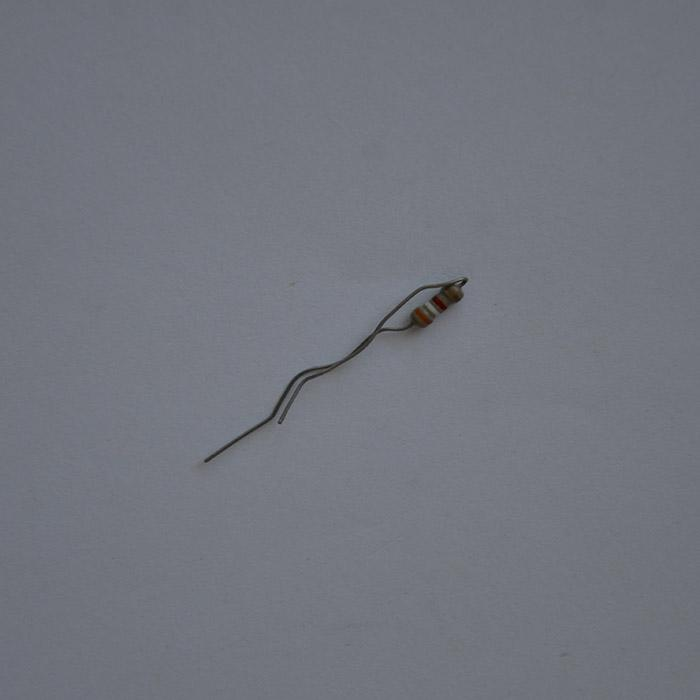resistor: (411, 281, 464, 328)
